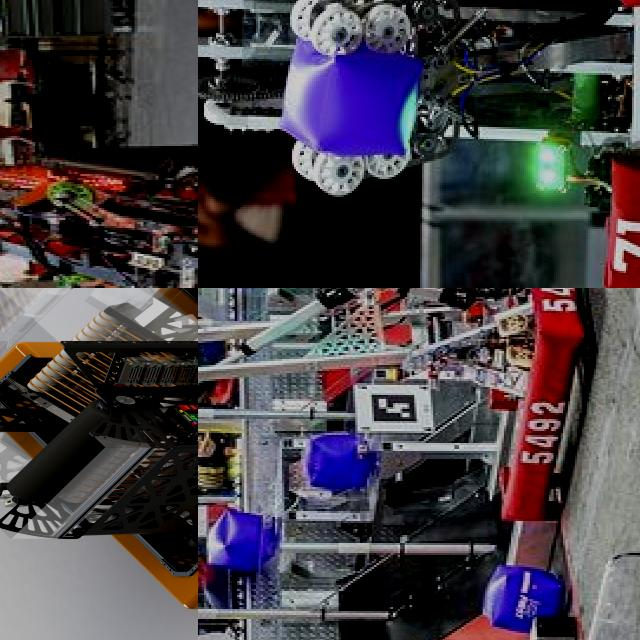FRC-Robots: (198, 0, 640, 286), (198, 288, 592, 608), (0, 288, 198, 614), (0, 33, 198, 288)
